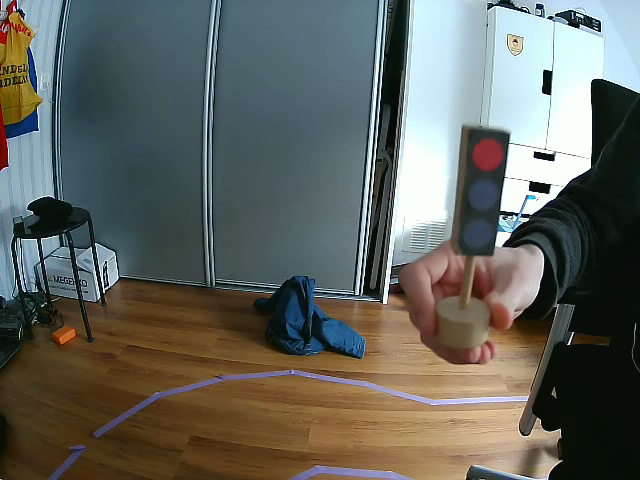roodlicht: (457, 128, 511, 251)
